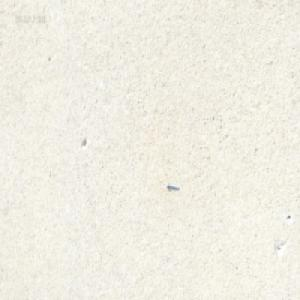Nail: (166, 181, 179, 190)
